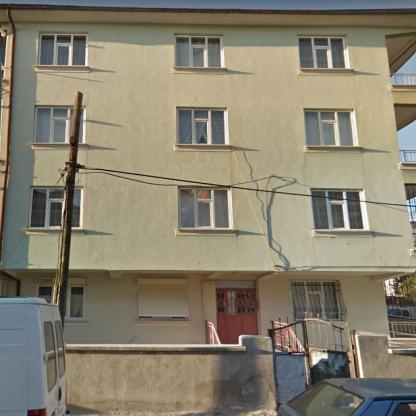door: (216, 287, 260, 345)
window: (311, 190, 365, 230), (179, 189, 230, 228), (304, 110, 356, 146), (291, 282, 339, 320), (177, 108, 226, 144), (39, 34, 87, 65), (176, 36, 222, 68), (300, 36, 346, 68), (35, 107, 74, 142), (30, 188, 64, 228), (71, 188, 82, 228), (70, 288, 84, 318), (39, 286, 52, 300)
